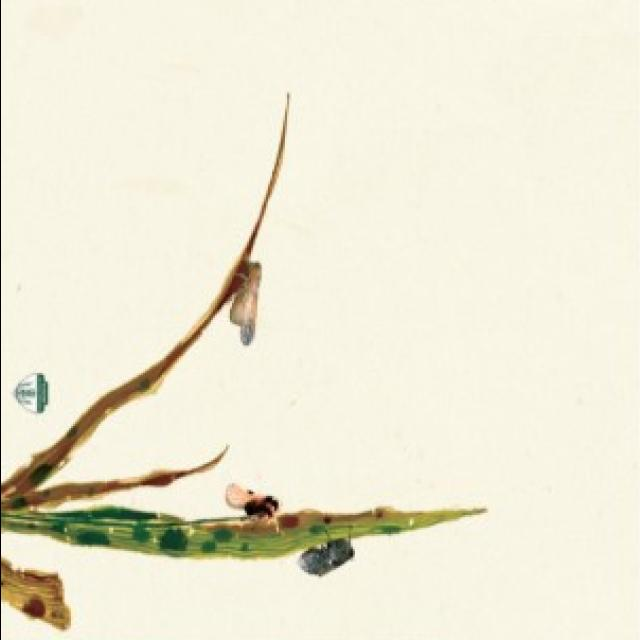brown plant hopper: (231, 263, 261, 345), (299, 540, 354, 576), (227, 485, 280, 519)
